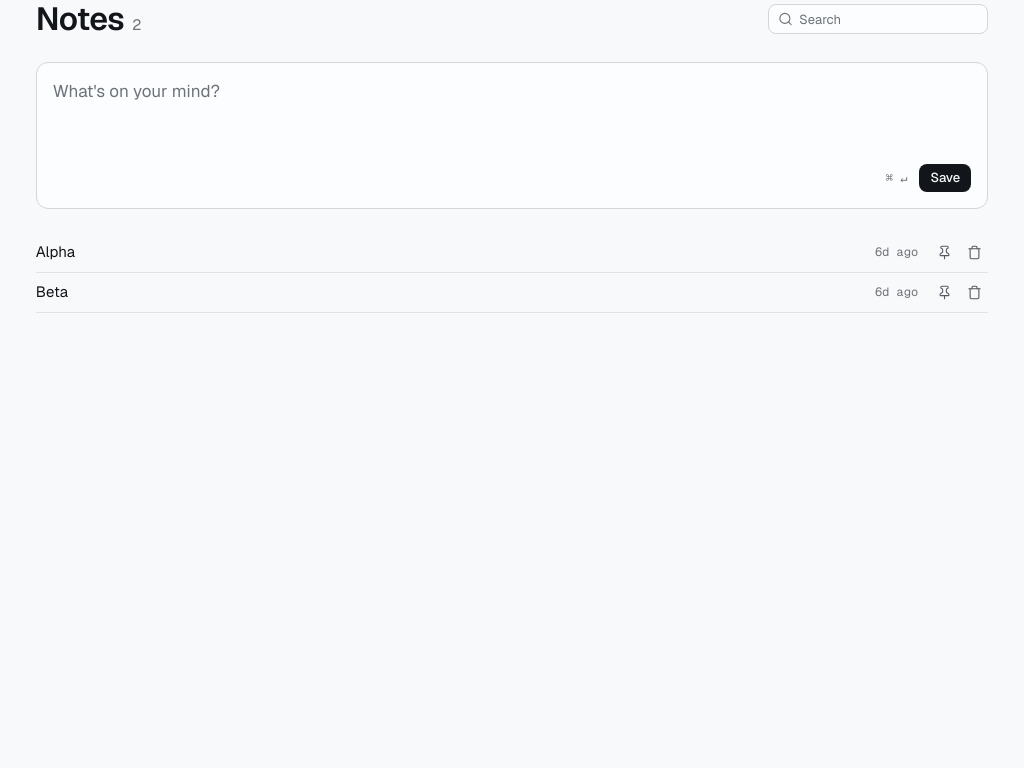
NotesBoard › autosave races › a failed save of one note does not show "Couldn't save" in another note's dialog
Click the button "Alpha" at (55, 252), box [36,233,863,272]
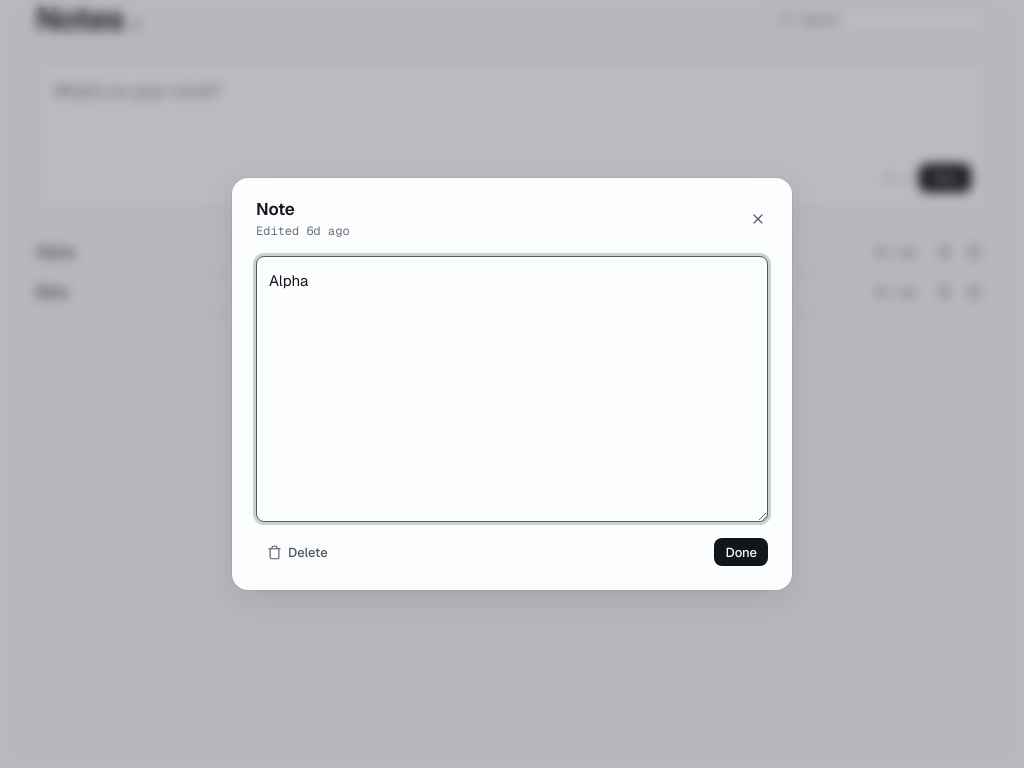
Replace the text in the text box named "Note text" with "Alpha v2" at (512, 389), box [256,256,768,522]
Wait 600 ms
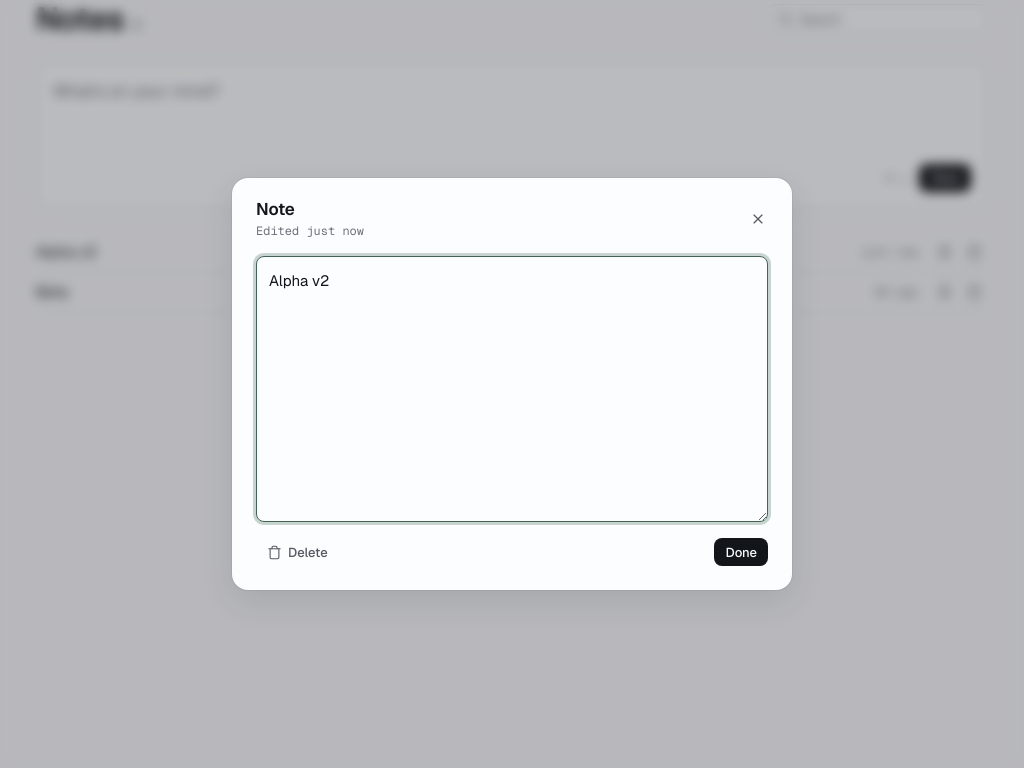
Click the button "Done" at (741, 552), box [714,538,768,566]
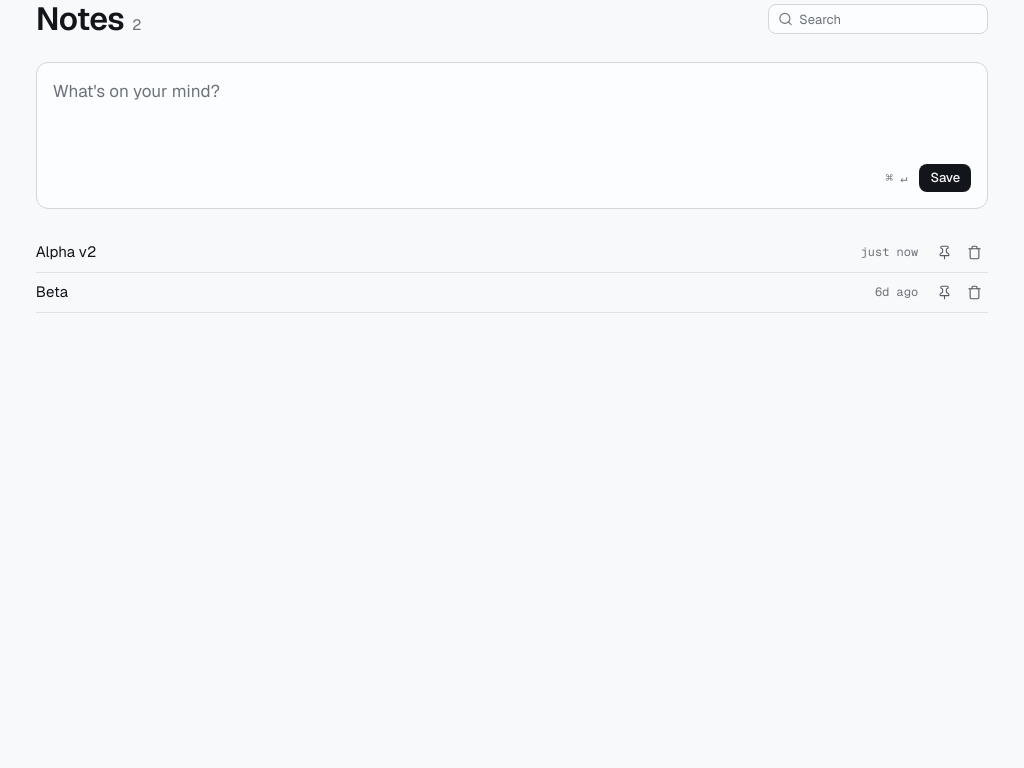
Click the button "Beta" at (52, 292), box [36,273,863,312]
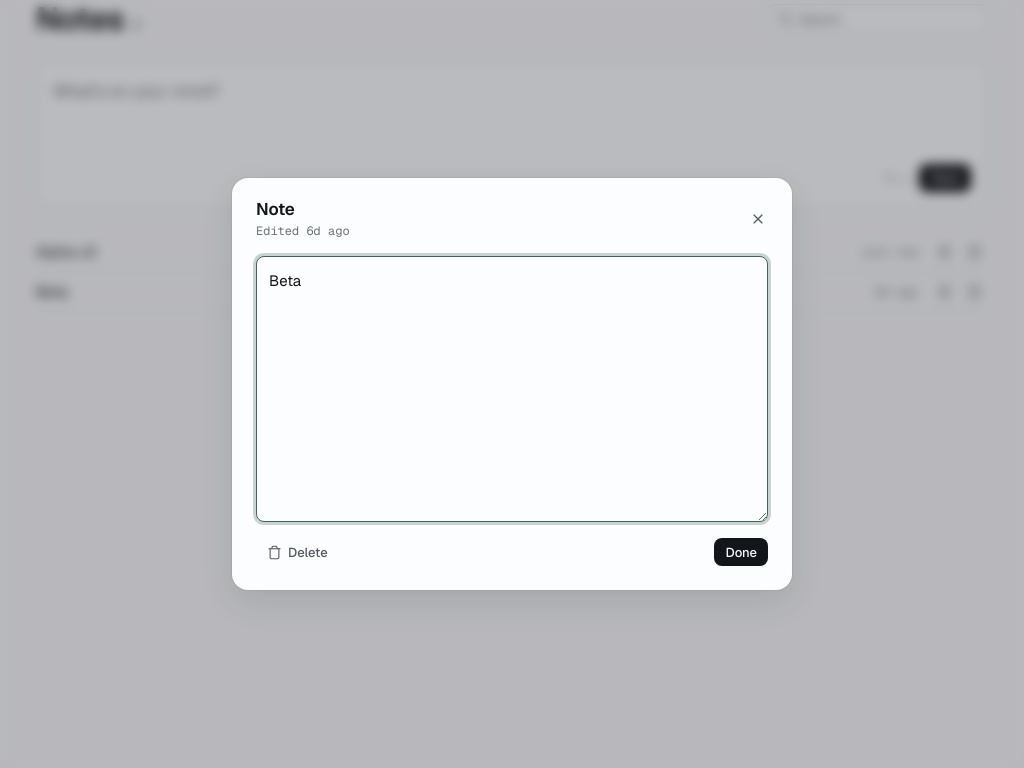
Expected: the text box named "Note text" holds "Beta", [256,256,768,522]
